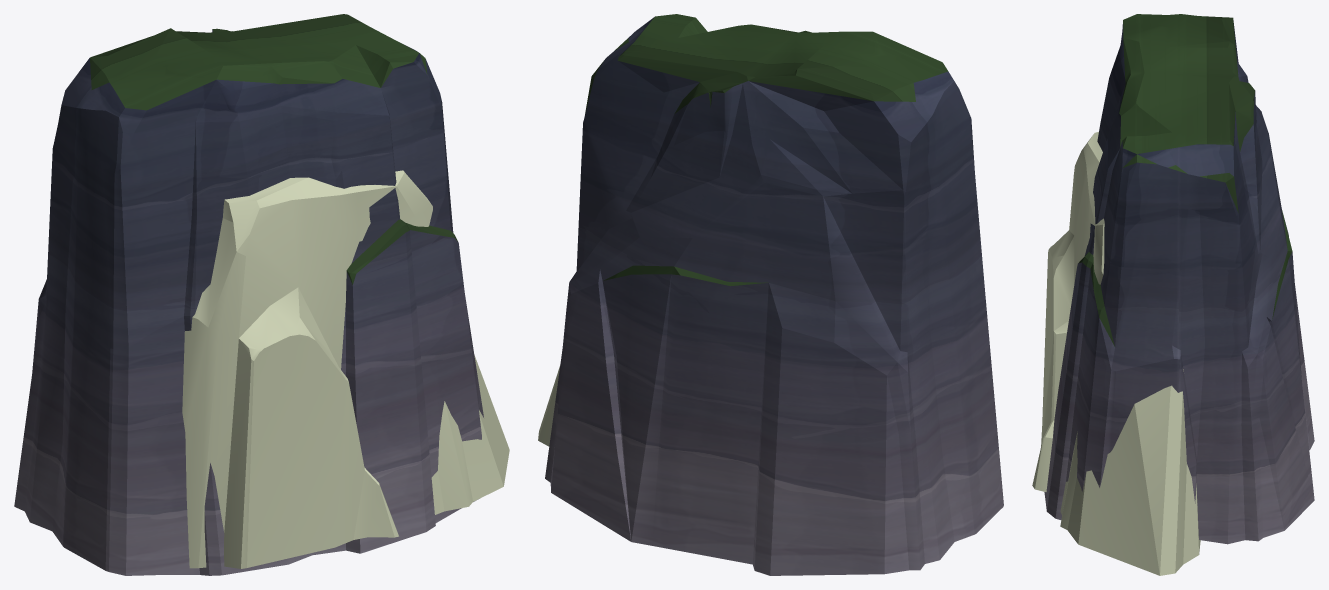
The model's file is Rocks_Kraken.obj.
3 renders of one model, left to right at view 1: azimuth 30°, elevation 25°; view 2: azimuth 150°, elevation 25°; view 3: azimuth 270°, elevation 25°, orthographic. The views are drawn at different scales.
Visible parts, largest first — view 1: Rock03, Rock02; view 2: Rock03, Rock02; view 3: Rock03, Rock02.
Boxes of the visible parts, x1=… form: Rock03: x1=14, y1=14, x2=483, y2=575; Rock02: x1=182, y1=170, x2=509, y2=568; Rock03: x1=545, y1=14, x2=1003, y2=575; Rock02: x1=538, y1=365, x2=560, y2=446; Rock03: x1=1044, y1=14, x2=1314, y2=544; Rock02: x1=1032, y1=132, x2=1200, y2=575.
Size of the model in its own units: 10.78 by 11.01 by 6.82.
